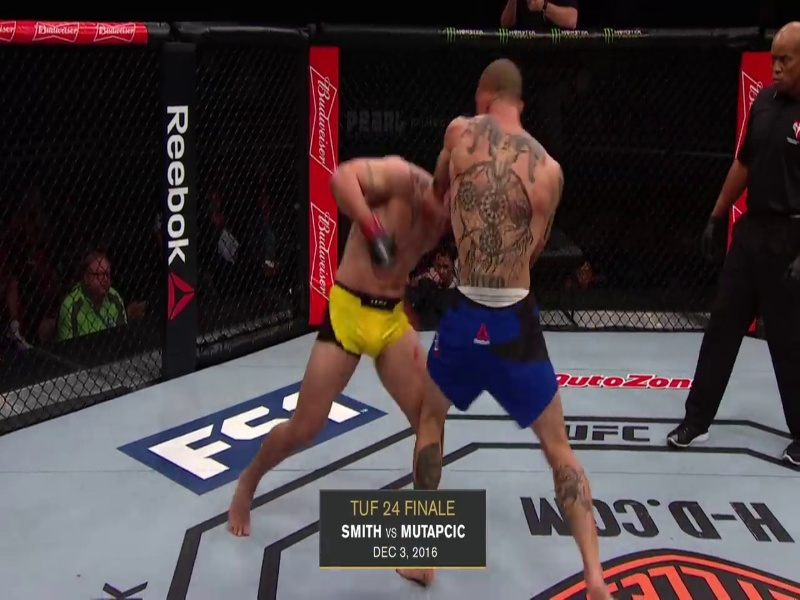fighter: (392, 43, 618, 600), (227, 131, 442, 544)
